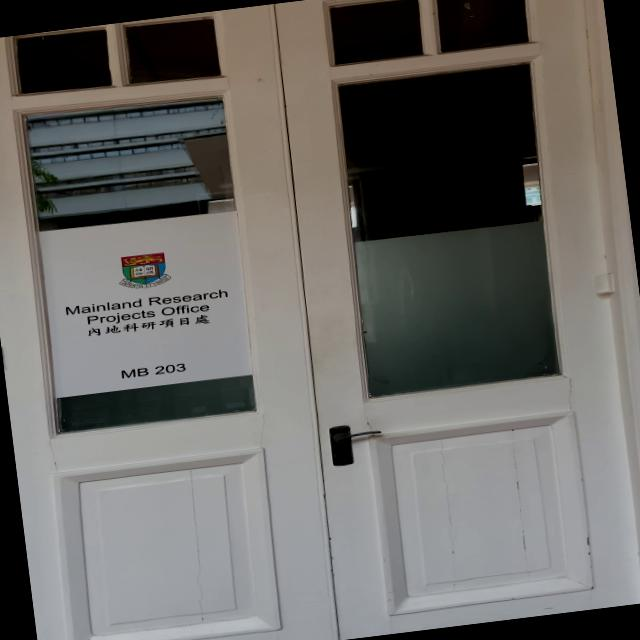room203Window: (110, 356, 194, 385)
